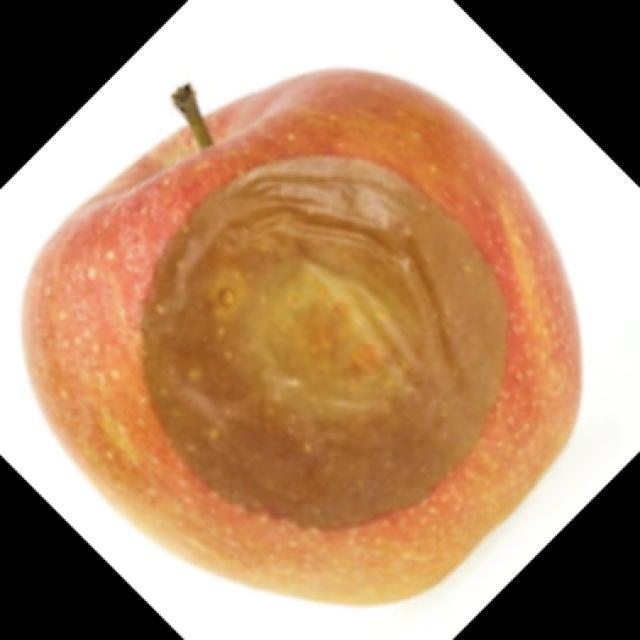Rotten: (33, 64, 567, 604)
